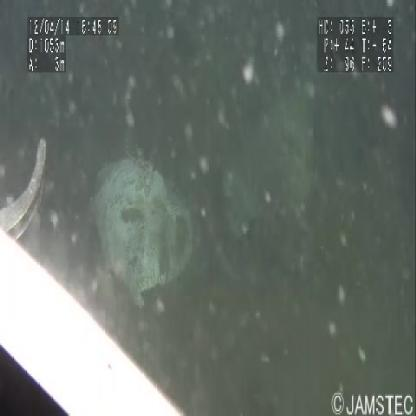Rác: (89, 159, 197, 313)
